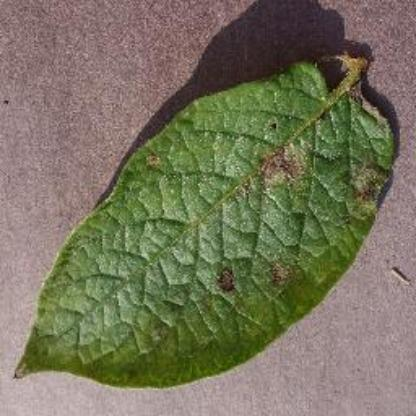Late-Blight: (13, 36, 399, 394)
